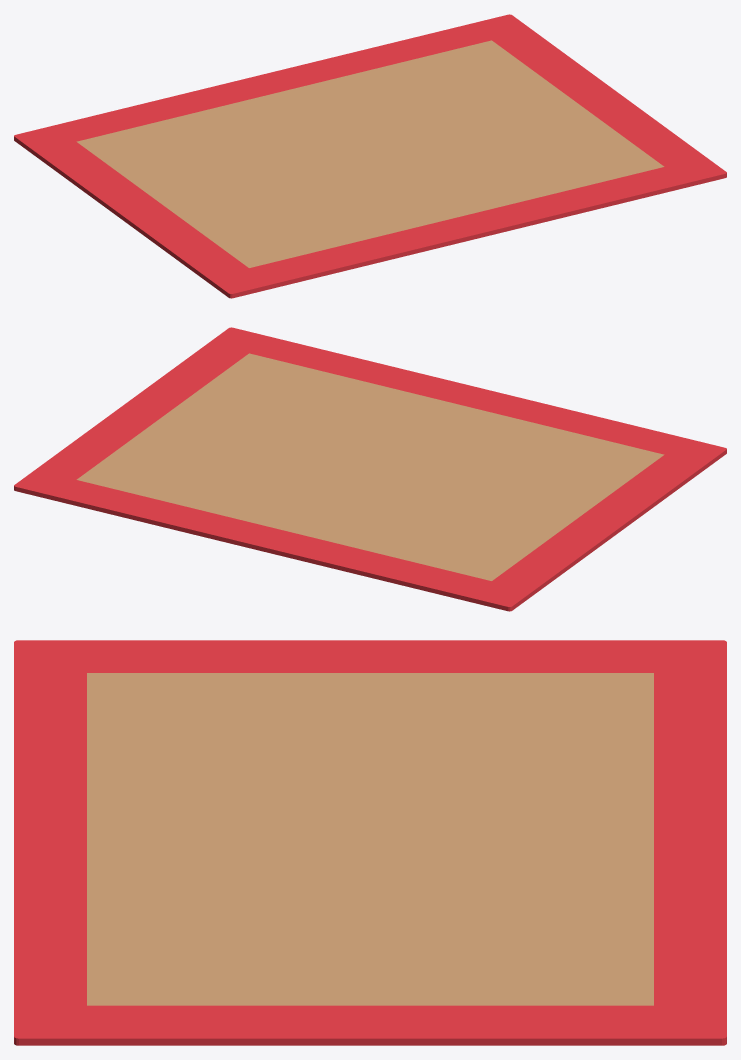
File: Carpet_squre.fbx
3 renders of one model, top to bottom at view 1: azimuth 30°, elevation 25°; view 2: azimuth 150°, elevation 25°; view 3: azimuth 270°, elevation 25°, orthographic. The views are drawn at different scales.
Visible parts, largest first — view 1: rectangle carpet; view 2: rectangle carpet; view 3: rectangle carpet.
Boxes of the visible parts, x1,y1,x2,y2 form: rectangle carpet: (14,14,726,298); rectangle carpet: (14,327,726,611); rectangle carpet: (14,640,726,1045).
Size of the model in its own units: 247 by 2.08 by 187.
